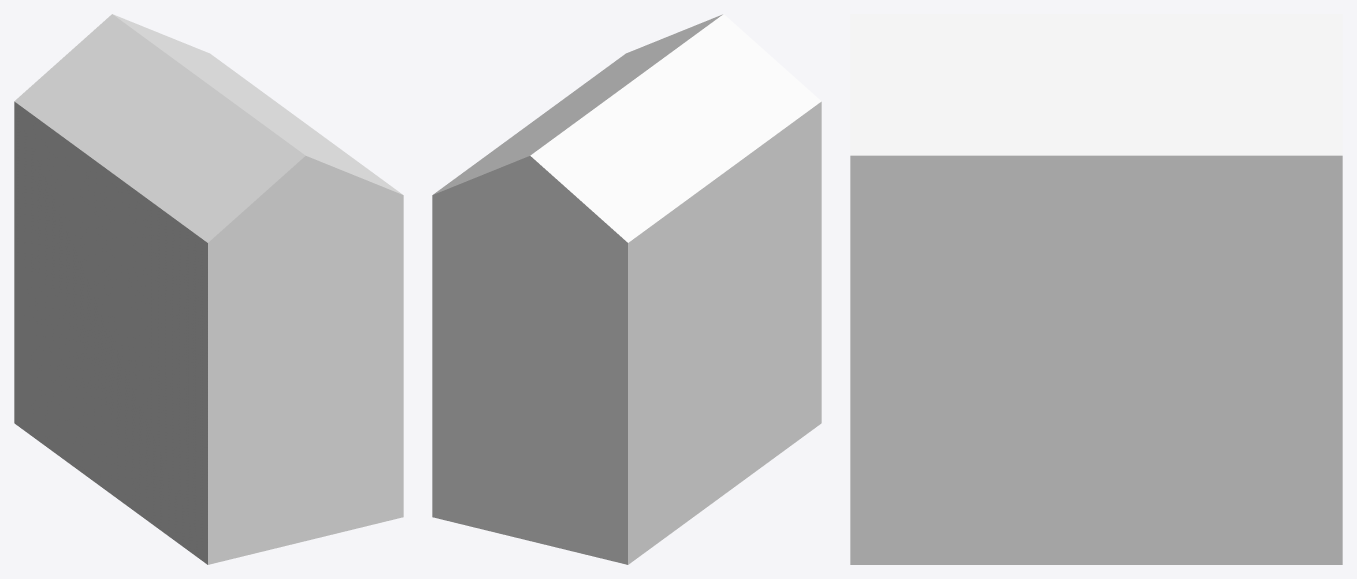
File: Building_4.fbx
3 renders of one model, left to right at view 1: azimuth 30°, elevation 25°; view 2: azimuth 150°, elevation 25°; view 3: azimuth 270°, elevation 25°, orthographic. The views are drawn at different scales.
Visible parts, largest first — view 1: Cube.002; view 2: Cube.002; view 3: Cube.002.
Part boxes in pixels (x1,y1,x2,y2): Cube.002: (14,14,403,564); Cube.002: (432,14,821,564); Cube.002: (850,14,1342,564).
Size of the model in its own units: 200 by 376 by 342.
